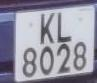0: (38, 43, 58, 79)
2: (55, 41, 74, 77)
8: (20, 43, 41, 82), (72, 39, 89, 75)
K: (39, 9, 57, 48)
L: (55, 9, 77, 46)
